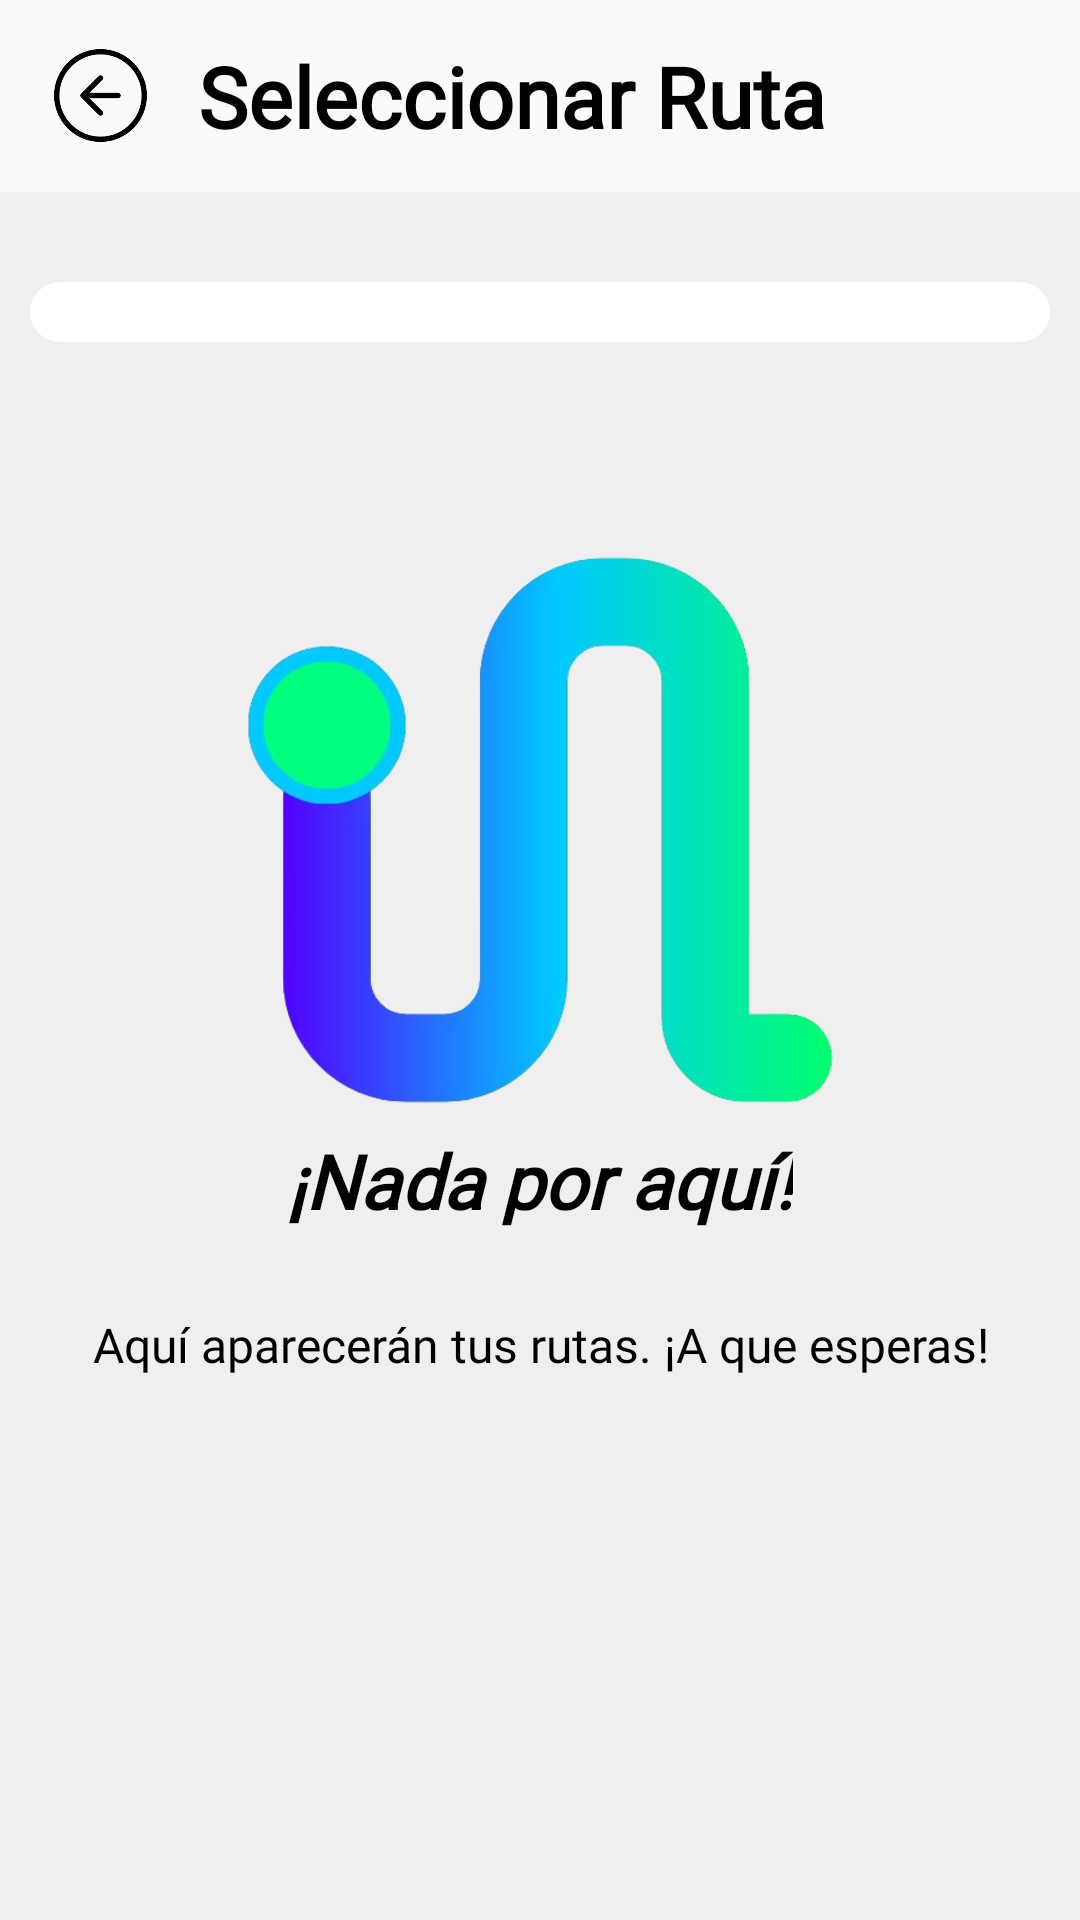

Icons on this 1080px×1920px Android screen, each with its box as (x1, y1, x2, y2):
Boton para volver atrás: (54, 49, 147, 142)
